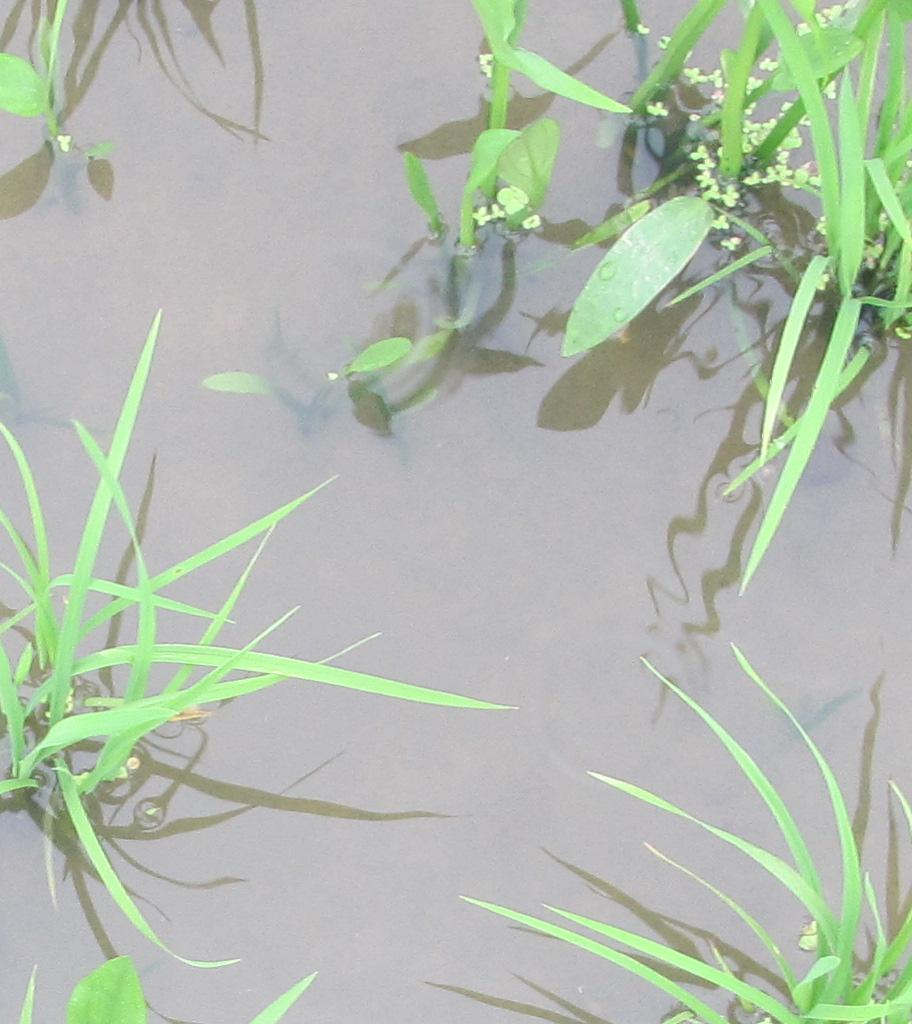Weed: (559, 189, 725, 353)
